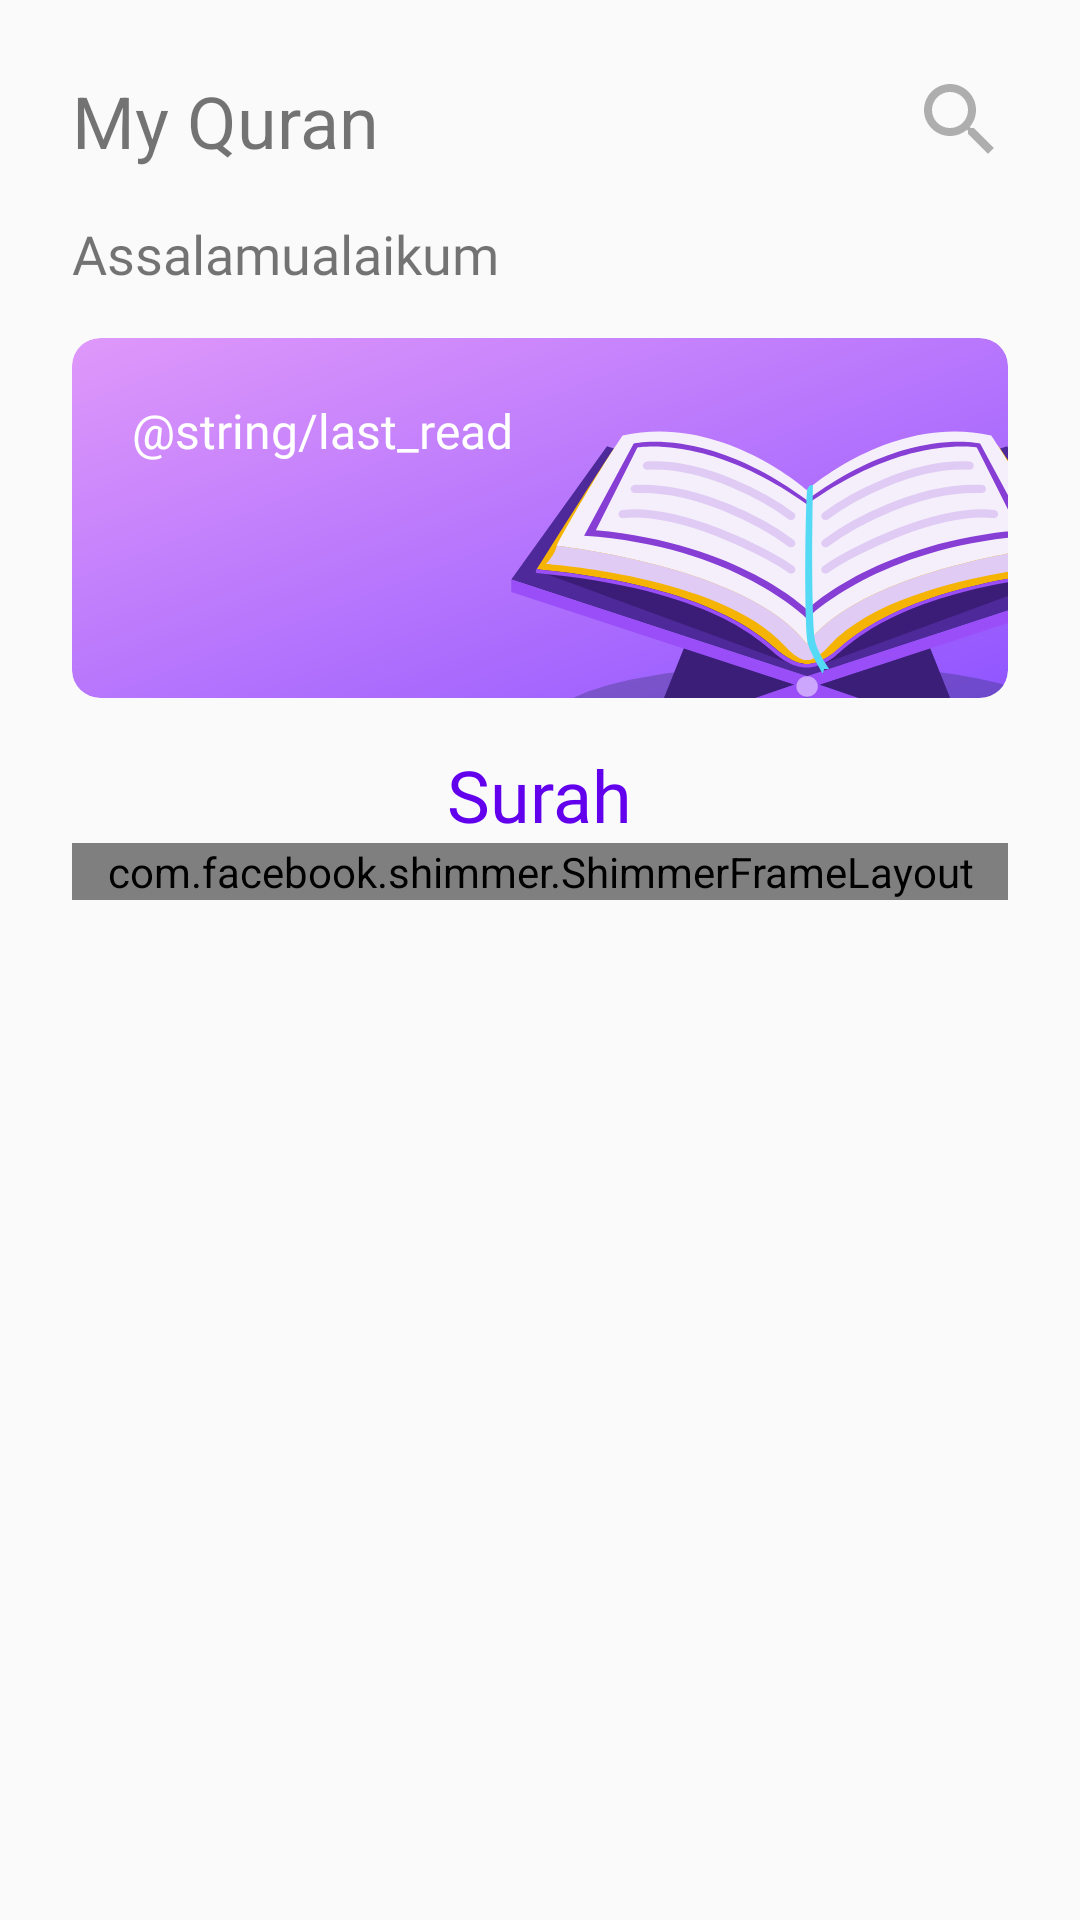

Icon click points for this 1080 × 1920 phone screenshot, format [x,y]:
search: [959,119]
